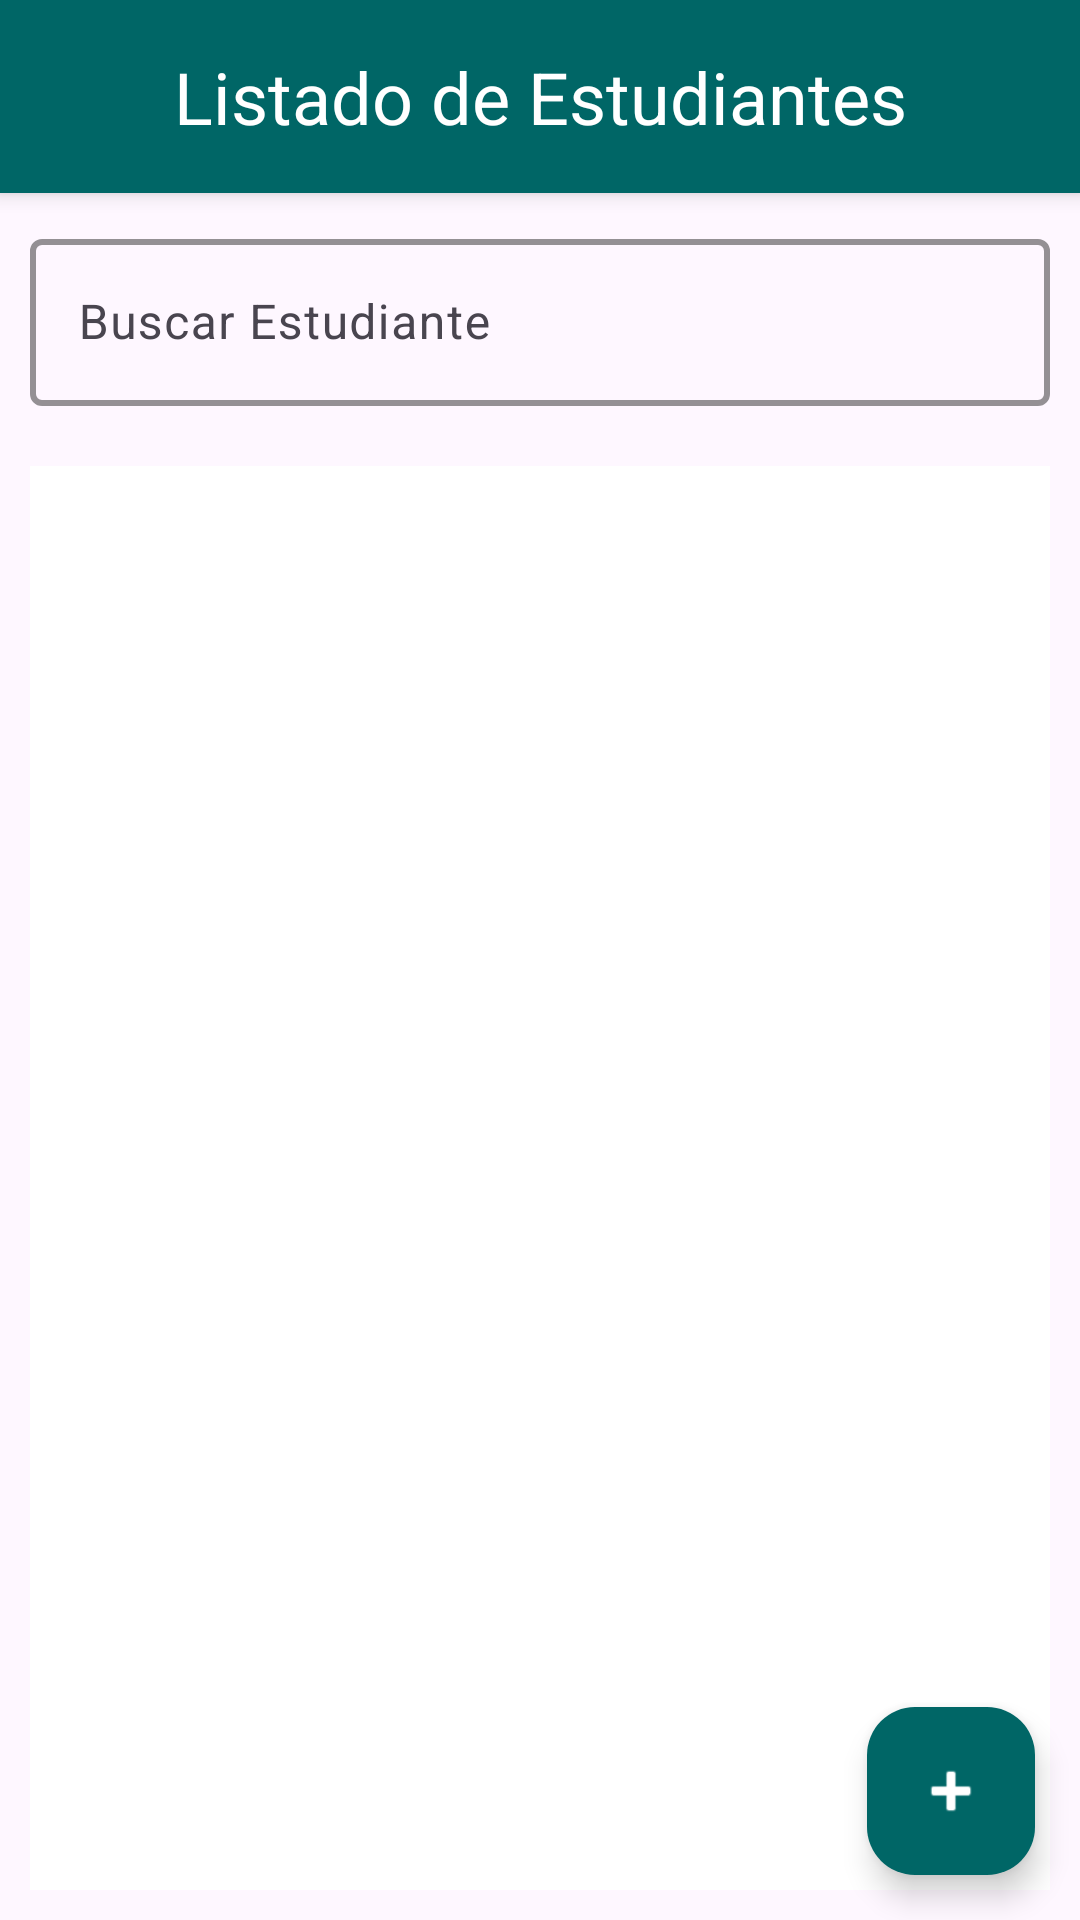

Screen size 1080 × 1920. Icon name, then its center in pixels as point (x, y):
Añadir: point (951, 1791)
